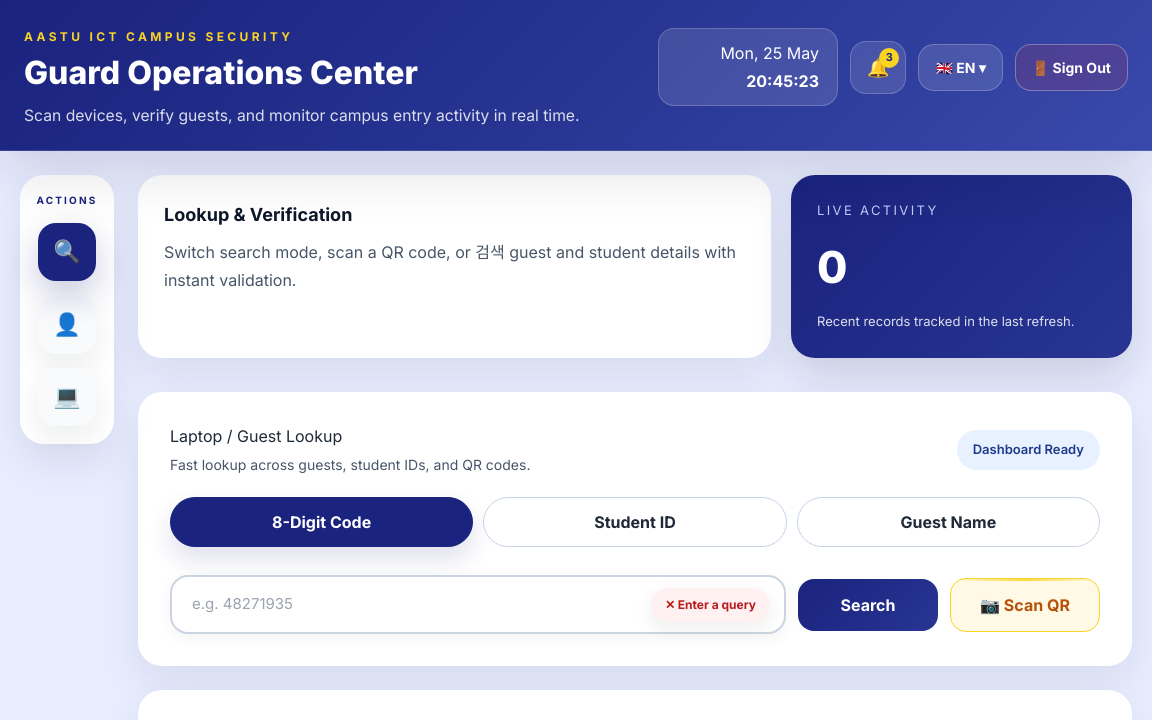
Test: GuardDashboard › shows error message when lookup returns 404
In the field with placeholder "e.g. 48271935": (478, 605) [170,575,786,634], type "99999999"
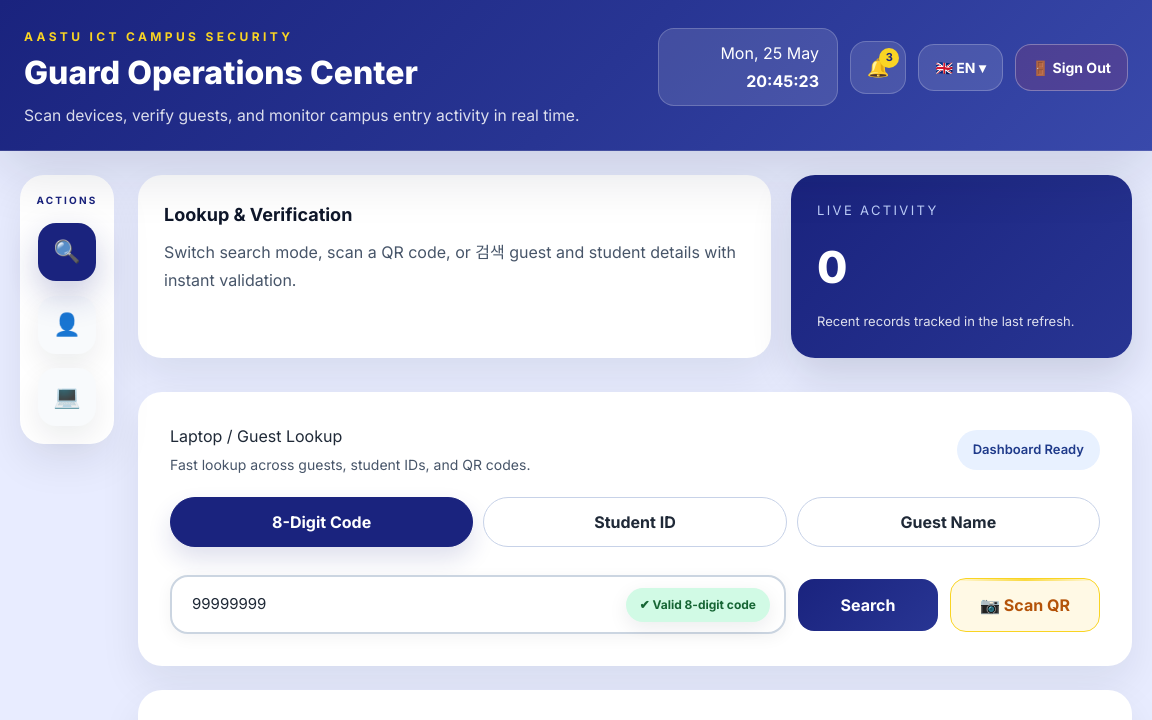
Click the button "Search": (868, 605) [798,579,938,631]
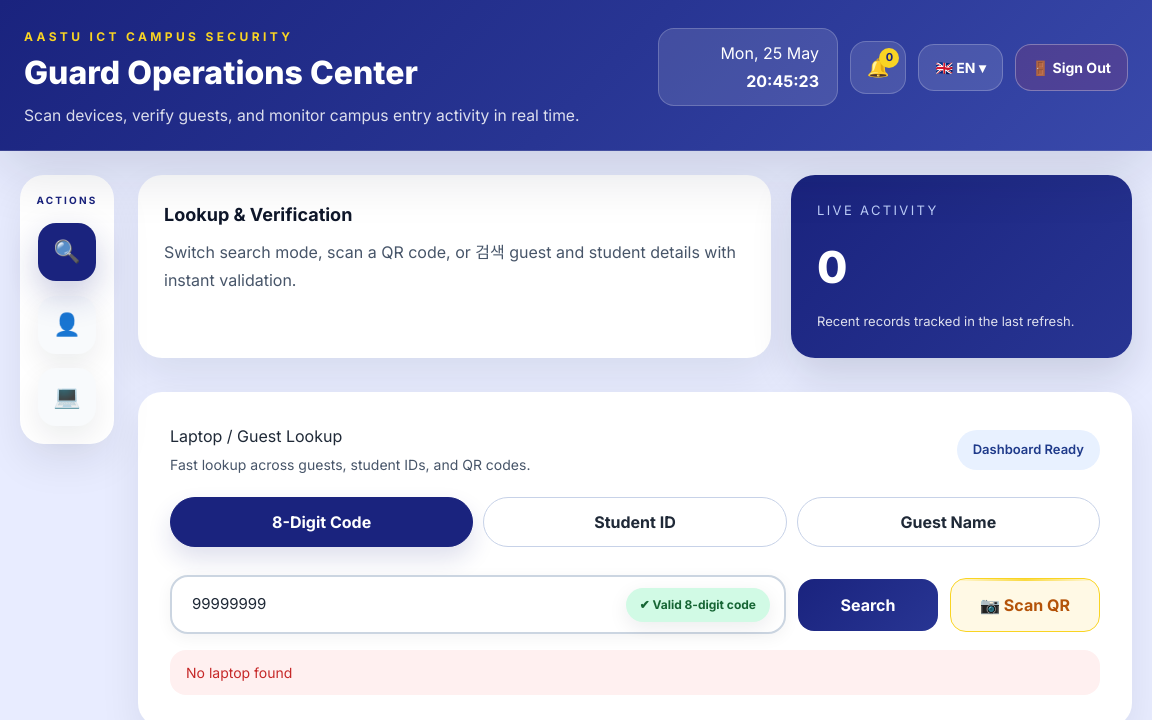
Result: the text "No laptop found" is shown at [170,650,1100,695]
